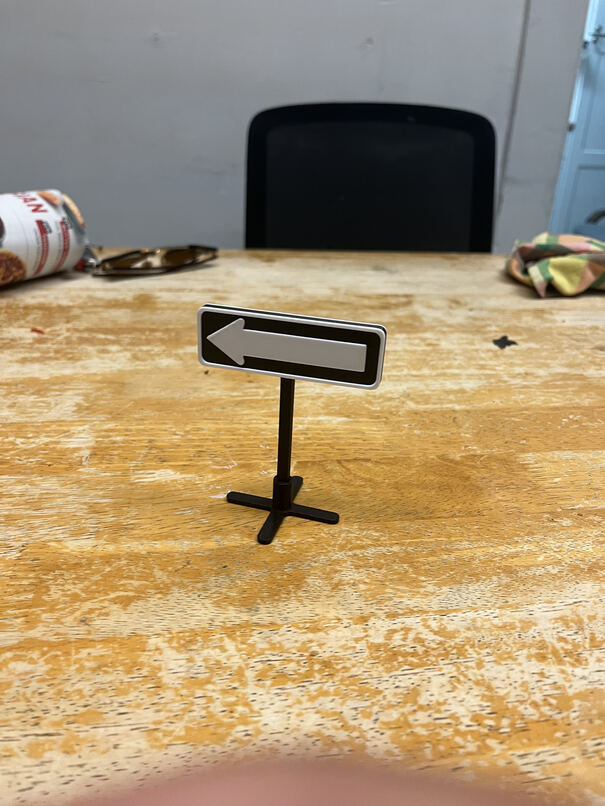sign_oneway_left: (196, 303, 386, 395)
